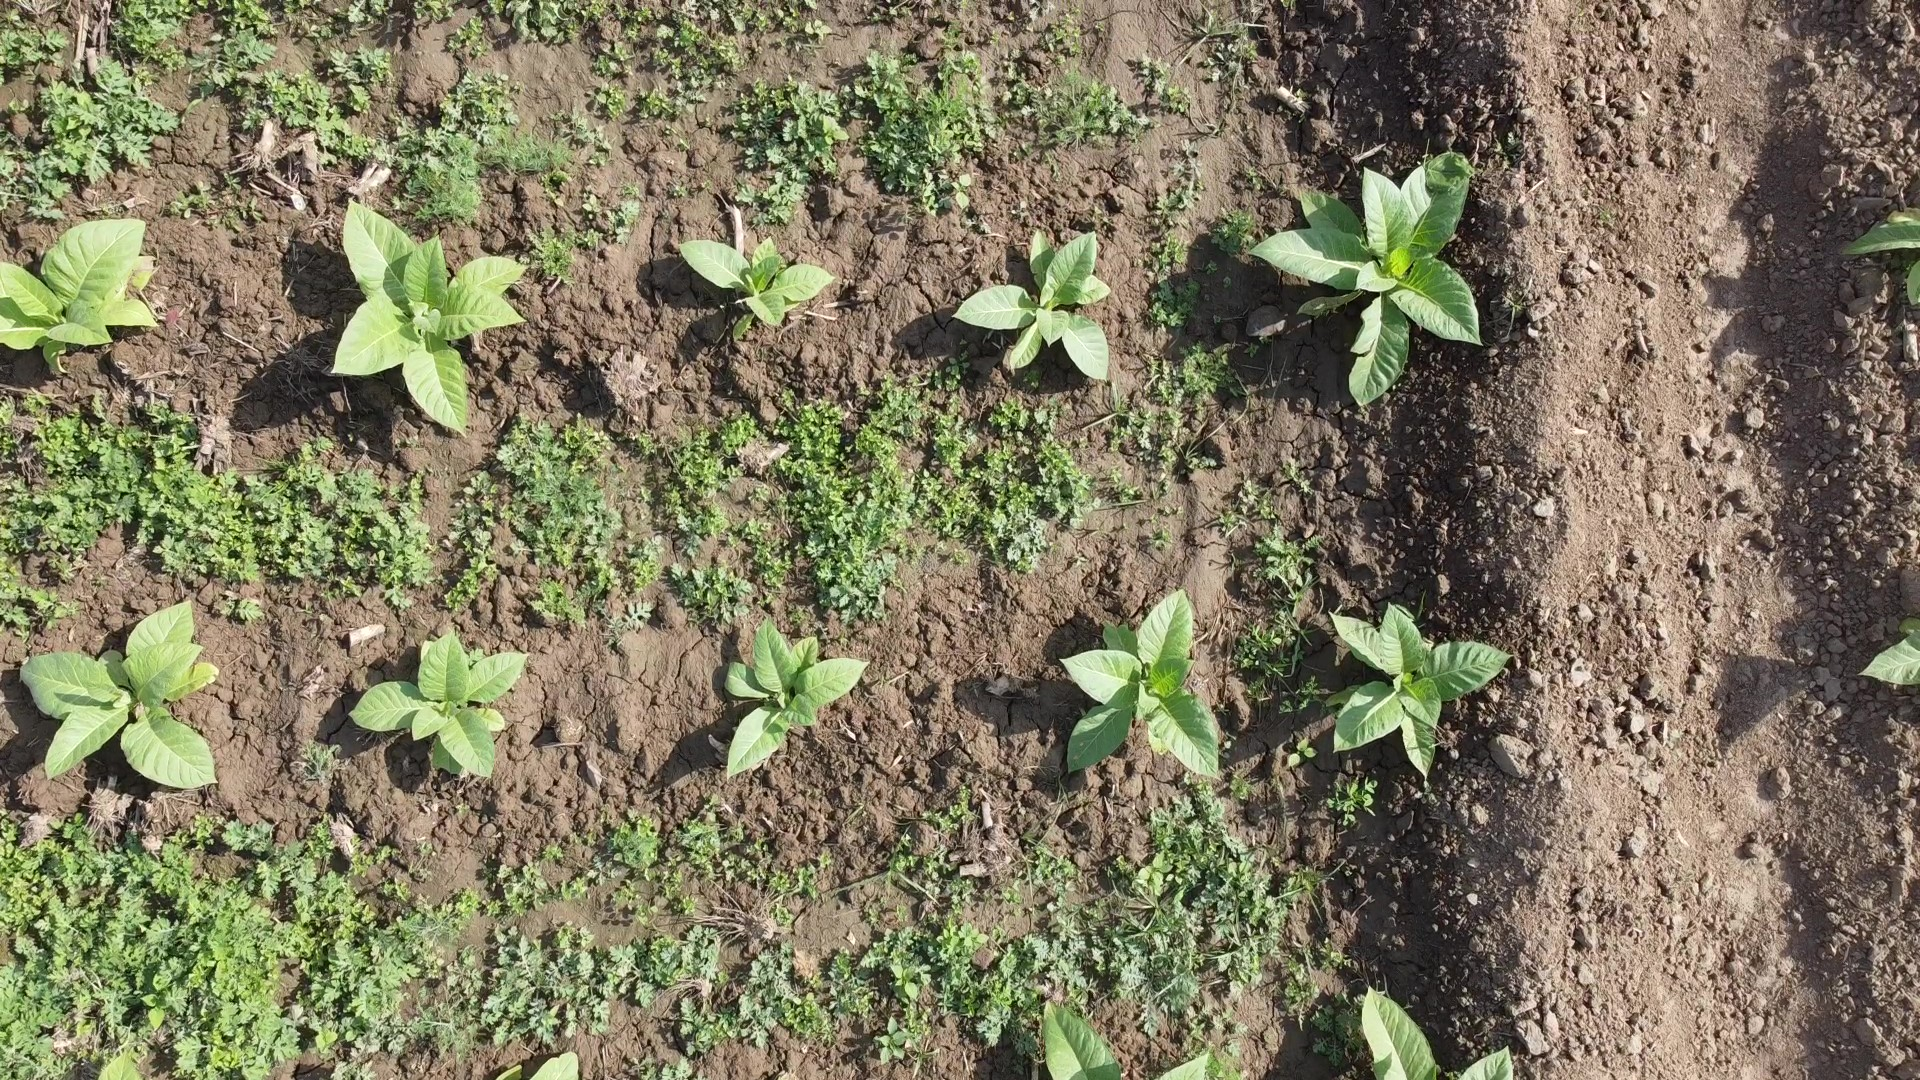weed: (1246, 150, 1485, 407), (328, 198, 530, 439), (18, 599, 220, 790), (1327, 601, 1516, 779), (1058, 588, 1224, 782), (347, 630, 529, 779), (0, 218, 160, 375), (951, 228, 1112, 382), (724, 617, 872, 781), (678, 235, 836, 343), (1361, 985, 1515, 1080), (1042, 1000, 1211, 1080), (1841, 207, 1920, 306), (1855, 632, 1920, 686), (496, 1051, 580, 1080), (98, 1051, 141, 1080)
